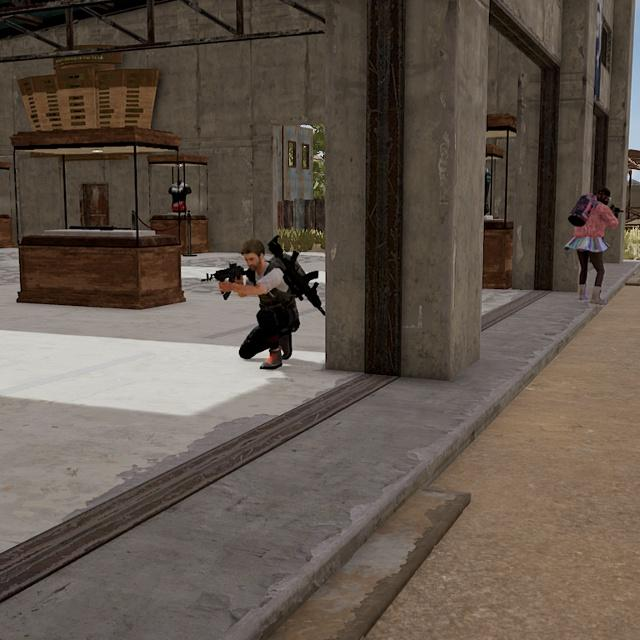head: (239, 236, 268, 275), (596, 186, 614, 207)
people: (227, 235, 302, 373), (568, 185, 621, 306)
